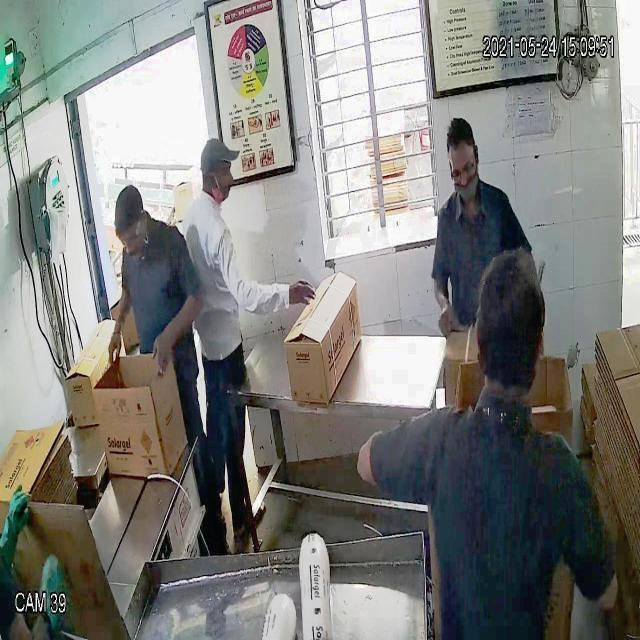hairnet: (453, 168, 479, 201), (210, 171, 234, 203)
